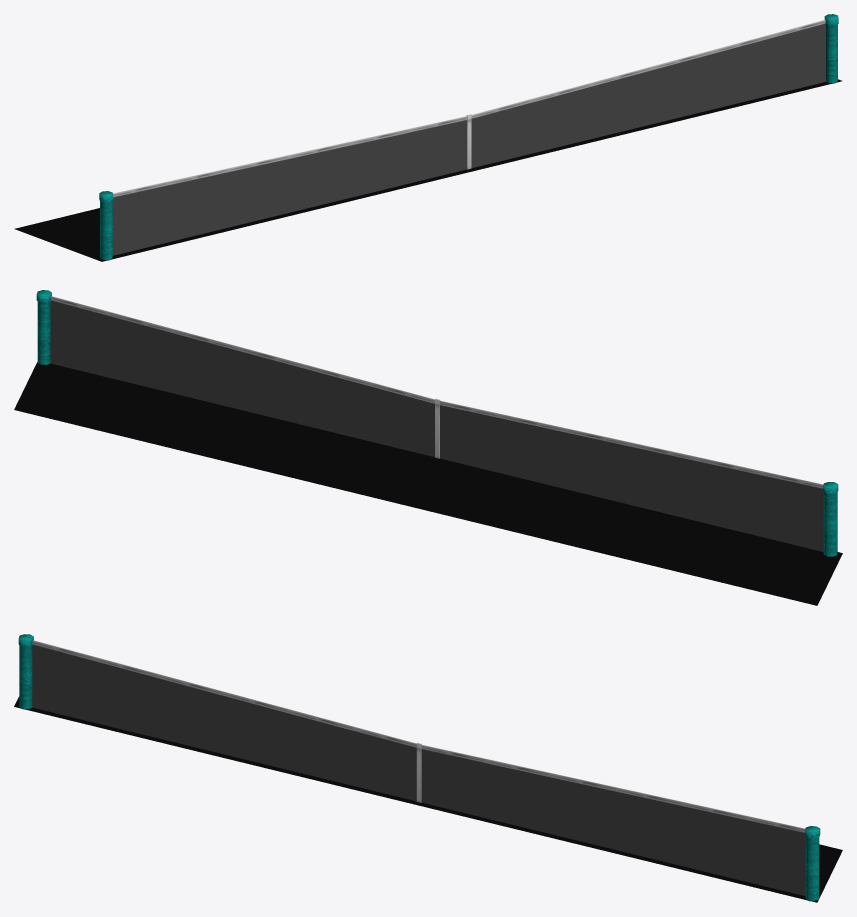
The model's file is tns_net_a__tns_net_a.glb.
3 views of the same model, one above another, from view 1: azimuth 30°, elevation 25°; view 2: azimuth 150°, elevation 25°; view 3: azimuth 330°, elevation 25° (orthographic). The views are drawn at different scales.
Visible parts, largest first — view 1: polygon3, polygon2, polygon4, polygon0; view 2: polygon3, polygon2, polygon4, polygon0; view 3: polygon3, polygon2, polygon4, polygon0.
Part boxes in pixels (left/top/right/bottom): polygon3: left=112, top=24, right=825, bottom=255; polygon2: left=14, top=79, right=842, bottom=261; polygon4: left=113, top=19, right=825, bottom=197; polygon0: left=99, top=14, right=838, bottom=260; polygon3: left=50, top=300, right=823, bottom=551; polygon2: left=14, top=362, right=842, bottom=605; polygon4: left=51, top=296, right=823, bottom=488; polygon0: left=36, top=290, right=838, bottom=556; polygon3: left=32, top=644, right=805, bottom=896; polygon2: left=14, top=696, right=842, bottom=902; polygon4: left=32, top=640, right=805, bottom=832; polygon0: left=18, top=634, right=820, bottom=901.
Bounding box in the file's own units: 136 × 10.8 × 17.09.
5 materials, 5 textured.
